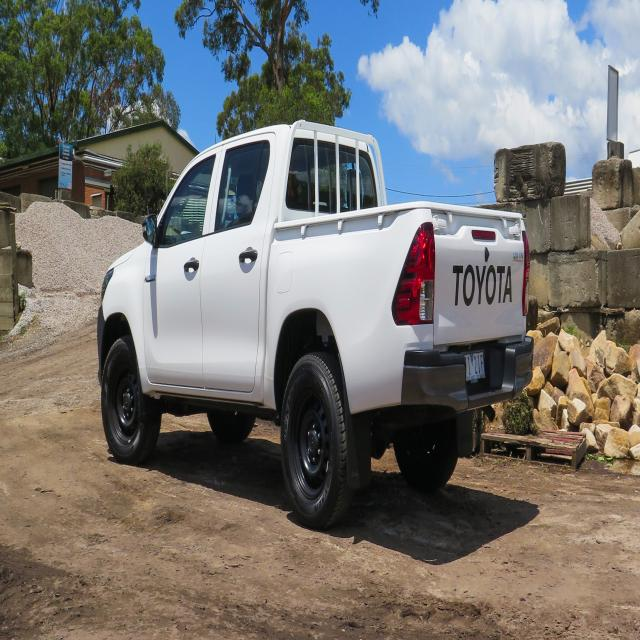light_vehicle: (91, 111, 539, 552)
